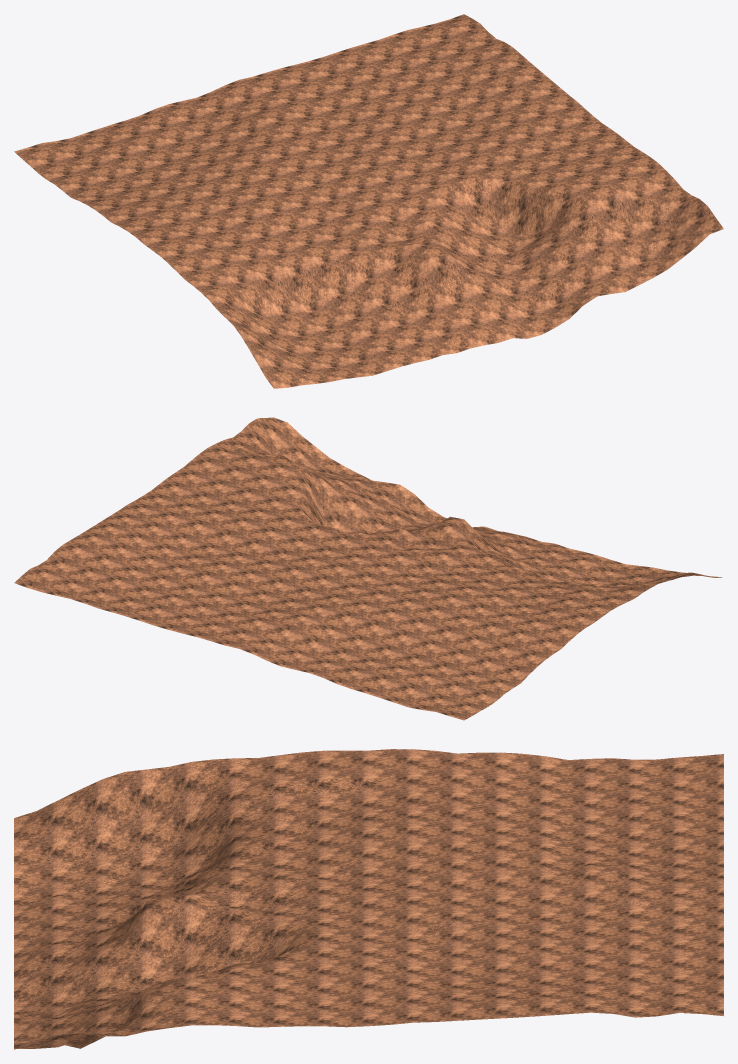
Rendered from terrain_04_11.dae.
3 renders of one model, top to bottom at view 1: azimuth 30°, elevation 25°; view 2: azimuth 150°, elevation 25°; view 3: azimuth 270°, elevation 25°, orthographic. The views are drawn at different scales.
Visible parts, largest first — view 1: terrain_04_11-node; view 2: terrain_04_11-node; view 3: terrain_04_11-node.
Boxes of the visible parts, x1,y1,x2,y2 form: terrain_04_11-node: [14, 14, 723, 388]; terrain_04_11-node: [14, 417, 721, 720]; terrain_04_11-node: [14, 749, 723, 1049].
Bounding box in the file's own units: 128 × 128 × 24.21.
1 material, 1 textured.
